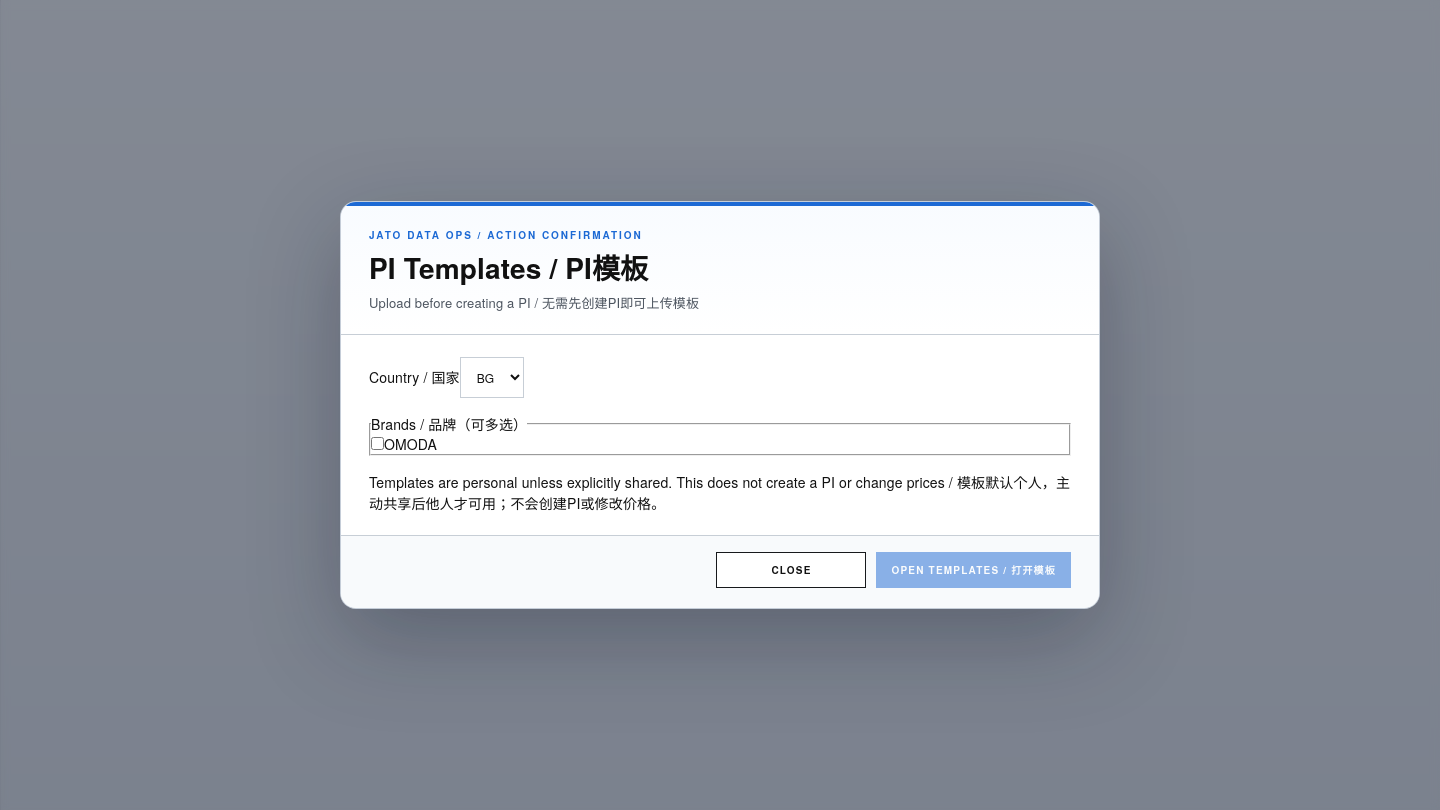
Test: retains scope after a permission error and does not load without a country
Click the checkbox labelled "OMODA".
click(378, 444)  # box 371,437 -> 384,450
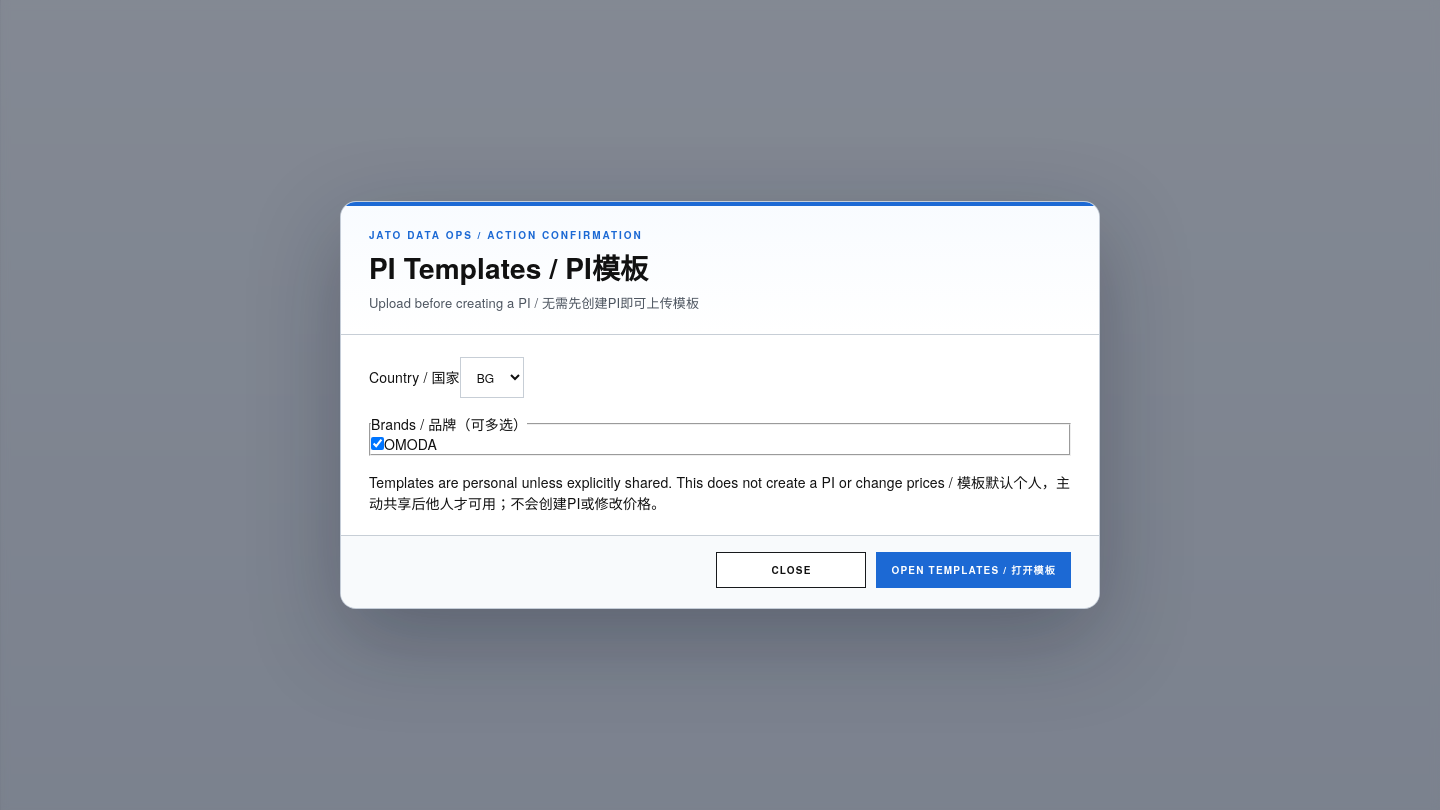
Click the button "Open templates / 打开模板".
click(974, 570)  # box 876,552 -> 1071,588
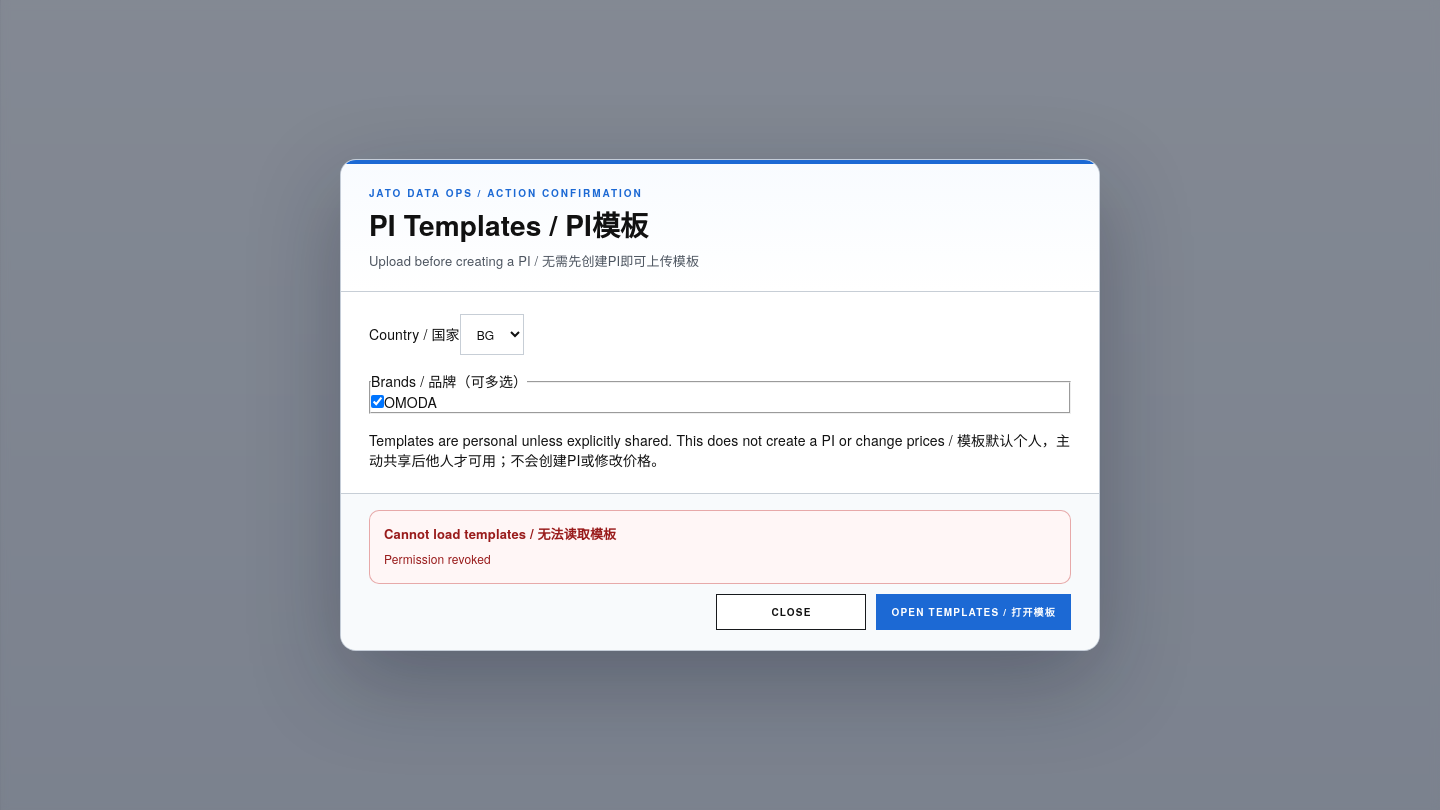
Check: the checkbox labelled "OMODA" is checked, box 371,395 -> 384,408
Check: the text "Permission revoked" is shown, box 384,550 -> 491,568
